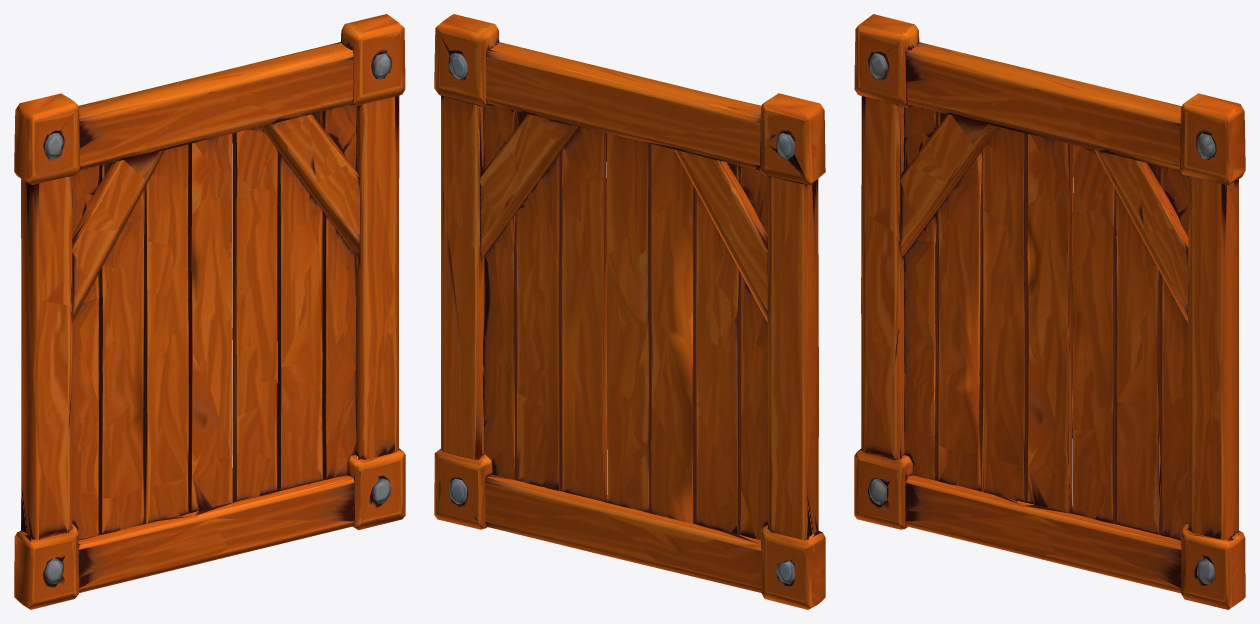
Rendered from wall.glb.
The picture shows the model from 3 angles, left to right: view 1: azimuth 30°, elevation 25°; view 2: azimuth 150°, elevation 25°; view 3: azimuth 330°, elevation 25°; orthographic projection.
Visible parts, largest first — view 1: wall; view 2: wall; view 3: wall.
Boxes of the visible parts, x1,y1,x2,y2 form: wall: (14, 14, 405, 609); wall: (434, 14, 825, 609); wall: (854, 14, 1245, 609).
Bounding box in the file's own units: 2 × 2.5 × 0.1604.
Materials: 1 (1 with a texture image).
